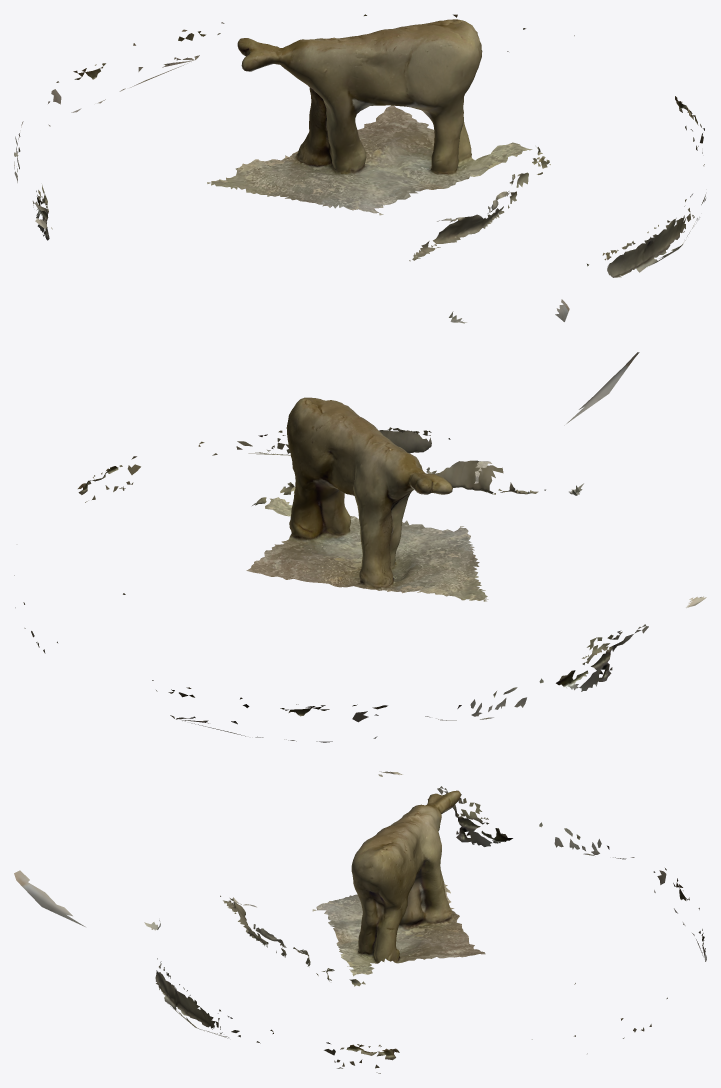
3 views of the same model, one above another, from view 1: azimuth 30°, elevation 25°; view 2: azimuth 150°, elevation 25°; view 3: azimuth 270°, elevation 25° (orthographic). The views are drawn at different scales.
Parts seen in each view (by area): view 1: metascan_20220325-1122; view 2: metascan_20220325-1122; view 3: metascan_20220325-1122.
Part boxes in pixels (<box>): metascan_20220325-1122: <box>14,14,705,323</box>; metascan_20220325-1122: <box>14,352,706,742</box>; metascan_20220325-1122: <box>14,771,706,1073</box>.
Size of the model in its own units: 1.09 by 0.2848 by 1.25.
1 material, 1 textured.
